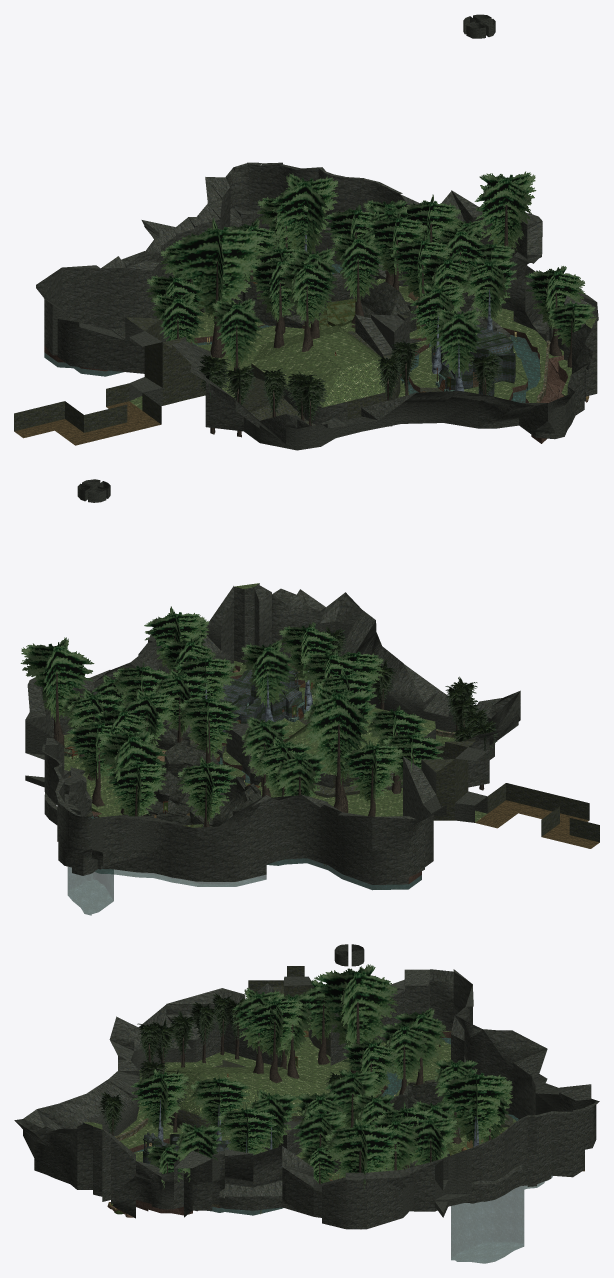
The model's file is crushbone.glb.
3 renders of one model, top to bottom at view 1: azimuth 30°, elevation 25°; view 2: azimuth 150°, elevation 25°; view 3: azimuth 270°, elevation 25°, orthographic. The views are drawn at different scales.
Parts seen in each view (by area): view 1: zone_geo, obj_177, obj_89, obj_82, obj_54, obj_57, obj_73, obj_62, obj_76, obj_80, obj_74, obj_55 (+20 smaller); view 2: zone_geo, obj_177, water, obj_82, obj_52, obj_57, obj_51, obj_74, obj_90, obj_73, obj_89, obj_87 (+17 smaller); view 3: zone_geo, water, obj_177, obj_89, obj_82, obj_53, obj_73, obj_76, obj_74, obj_60, obj_59, obj_87 (+24 smaller).
Part boxes in pixels (bbox=[...]): zone_geo: bbox=[14, 14, 598, 450]; obj_177: bbox=[168, 217, 264, 358]; obj_89: bbox=[271, 173, 338, 253]; obj_82: bbox=[474, 171, 536, 259]; obj_54: bbox=[280, 259, 335, 351]; obj_57: bbox=[332, 232, 384, 323]; obj_73: bbox=[435, 308, 482, 391]; obj_62: bbox=[212, 298, 262, 388]; obj_76: bbox=[463, 257, 517, 330]; obj_80: bbox=[525, 266, 585, 356]; obj_74: bbox=[410, 284, 464, 373]; obj_55: bbox=[248, 254, 296, 348]; zone_geo: bbox=[25, 479, 599, 884]; obj_177: bbox=[303, 684, 377, 812]; water: bbox=[67, 685, 421, 915]; obj_82: bbox=[20, 637, 94, 746]; obj_52: bbox=[341, 740, 402, 816]; obj_57: bbox=[178, 693, 240, 763]; obj_51: bbox=[177, 756, 237, 827]; obj_74: bbox=[241, 640, 295, 721]; obj_90: bbox=[105, 760, 166, 816]; obj_73: bbox=[279, 622, 338, 710]; obj_89: bbox=[99, 730, 166, 797]; obj_87: bbox=[66, 719, 127, 806]; zone_geo: bbox=[14, 944, 599, 1229]; water: bbox=[134, 1038, 552, 1263]; obj_177: bbox=[314, 964, 398, 1073]; obj_89: bbox=[438, 1068, 512, 1146]; obj_82: bbox=[324, 1118, 399, 1194]; obj_53: bbox=[245, 996, 303, 1083]; obj_73: bbox=[130, 1069, 188, 1141]; obj_76: bbox=[218, 1103, 277, 1155]; obj_74: bbox=[190, 1074, 250, 1140]; obj_60: bbox=[379, 1022, 427, 1094]; obj_59: bbox=[342, 1038, 398, 1097]; obj_87: bbox=[409, 1115, 457, 1165].
Size of the model in its own units: 1343 by 809 by 1285.
Materials: 133 (133 with a texture image).
